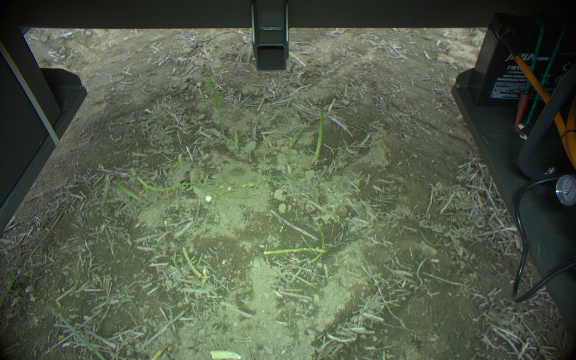aspa: (309, 98, 326, 165), (178, 245, 208, 282), (133, 171, 179, 195), (109, 178, 147, 206), (261, 243, 330, 256), (311, 220, 328, 270), (287, 123, 306, 148), (230, 133, 243, 153), (175, 153, 185, 169)
